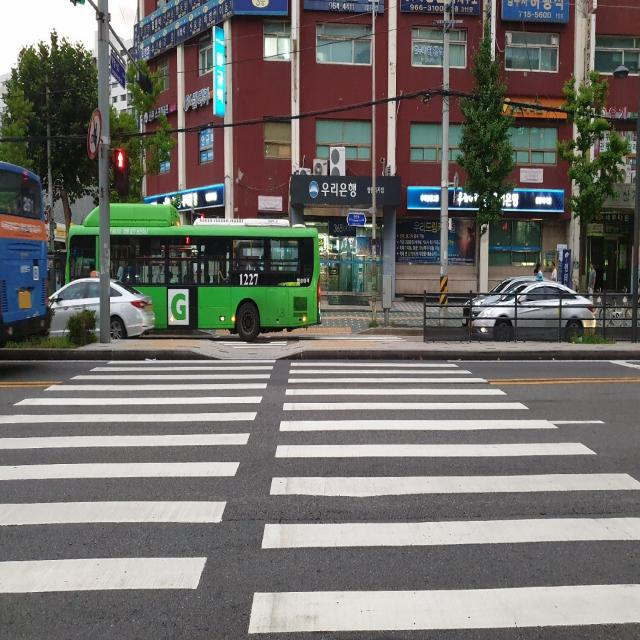빨간불: (114, 148, 128, 194)
횡단보도: (0, 359, 640, 640)
